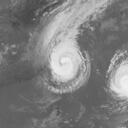cyclone: (39, 38, 92, 94), (105, 55, 127, 106)
